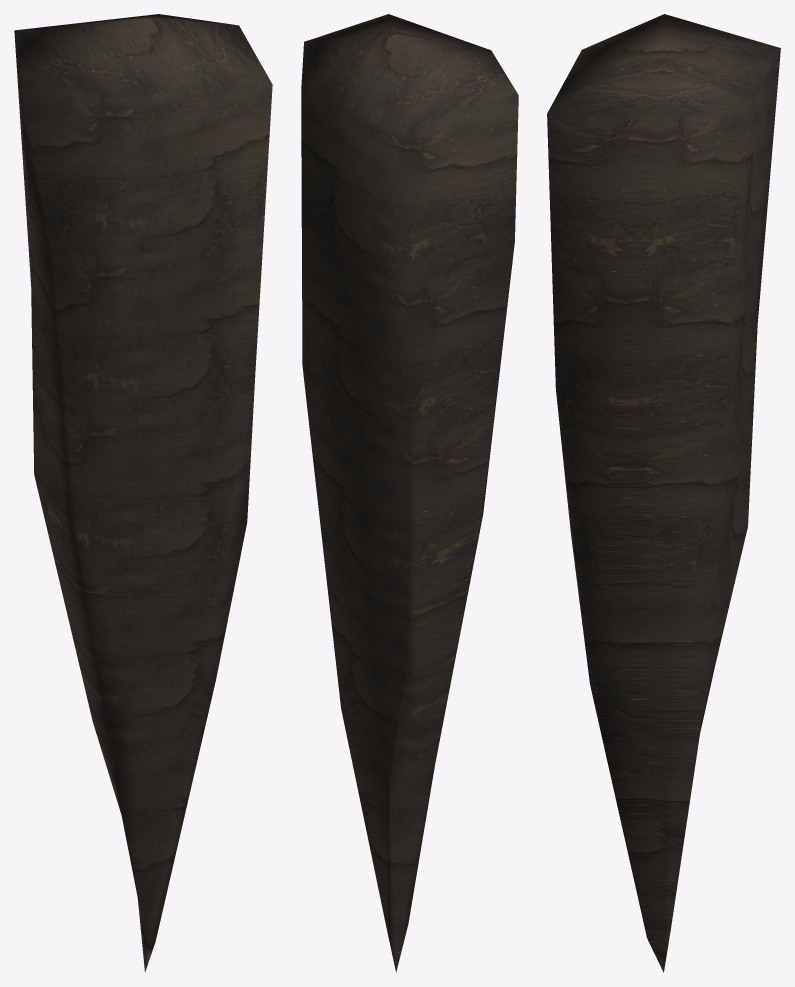
The model's file is cliff_fang_b_lod3.gltf.
3 views of the same model, side by side, from view 1: azimuth 30°, elevation 25°; view 2: azimuth 150°, elevation 25°; view 3: azimuth 270°, elevation 25° (orthographic). The views are drawn at different scales.
Parts seen in each view (by area): view 1: cliff_fang_b_LOD3; view 2: cliff_fang_b_LOD3; view 3: cliff_fang_b_LOD3.
Part boxes in pixels (x1,y1,x2,y2): cliff_fang_b_LOD3: (14,14,272,972); cliff_fang_b_LOD3: (301,14,518,972); cliff_fang_b_LOD3: (547,14,780,972).
Size of the model in its own units: 11.56 by 48 by 10.95.
1 material, 1 textured.
